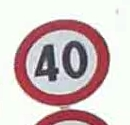limite 40: (14, 16, 109, 106)
